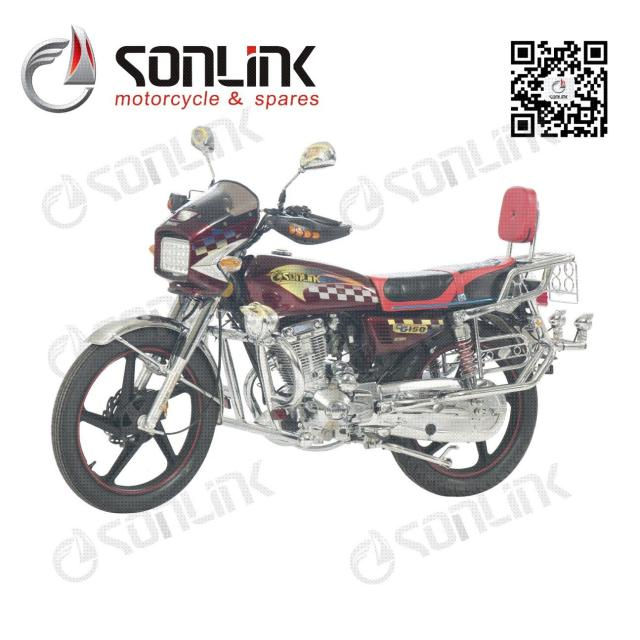Motorcycle: (51, 180, 593, 513)
